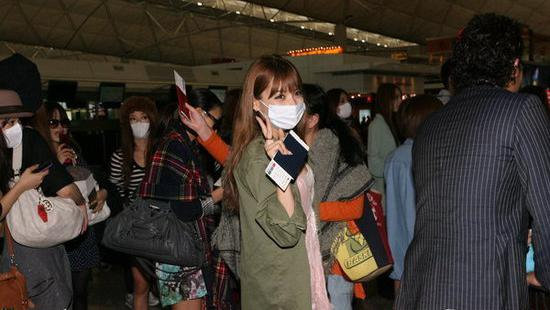NONE: (50, 117, 71, 144), (391, 93, 405, 113)
OK: (1, 120, 26, 149), (130, 114, 152, 138), (336, 98, 354, 120)
WRONG: (264, 83, 309, 128)
